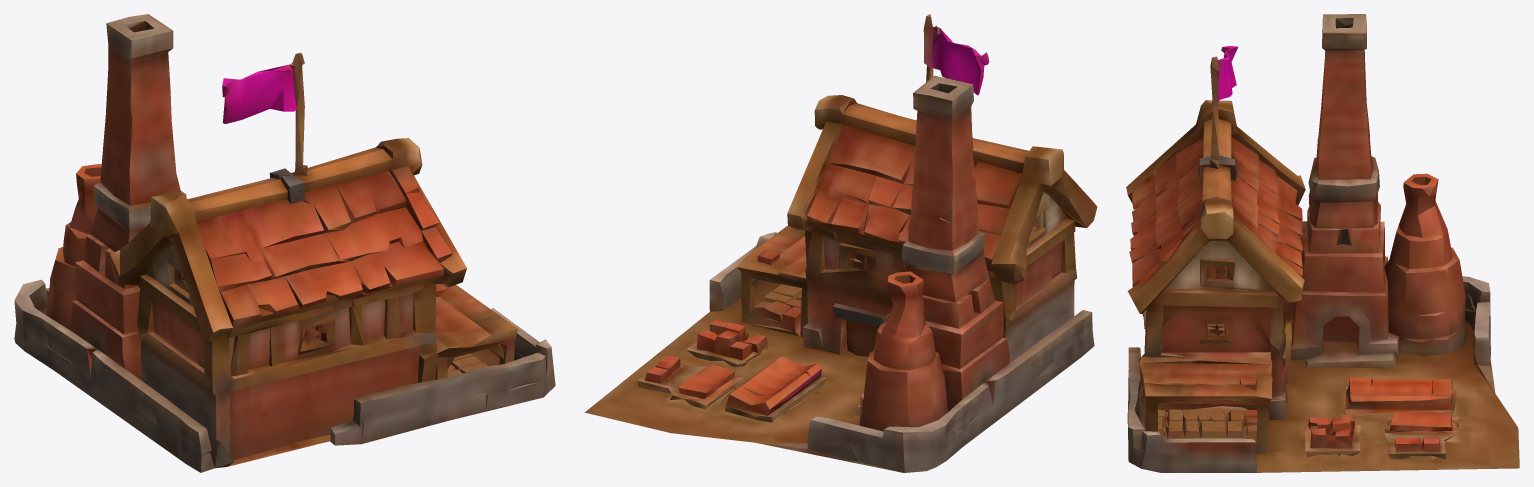
The model's file is brickworks2.lod2.glb.
3 views of the same model, side by side, from view 1: azimuth 30°, elevation 25°; view 2: azimuth 150°, elevation 25°; view 3: azimuth 270°, elevation 25° (orthographic). The views are drawn at different scales.
Parts seen in each view (by area): view 1: brickworks2.lod2_uv; view 2: brickworks2.lod2_uv; view 3: brickworks2.lod2_uv.
Part boxes in pixels (x1=…): brickworks2.lod2_uv: x1=14, y1=14, x2=555, y2=472; brickworks2.lod2_uv: x1=585, y1=14, x2=1097, y2=472; brickworks2.lod2_uv: x1=1126, y1=14, x2=1519, y2=472.
Size of the model in its own units: 1.82 by 1.71 by 1.9.
Materials: 1 (1 with a texture image).
